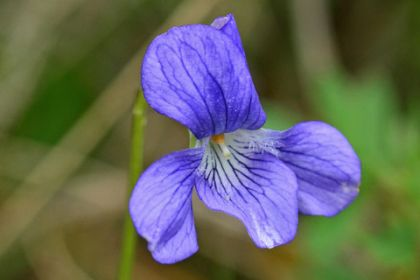violet: (132, 14, 372, 266)
